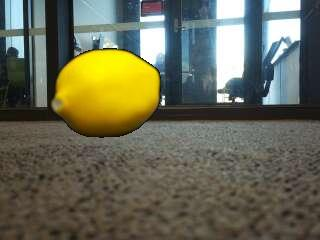lemon: (51, 50, 159, 138)
